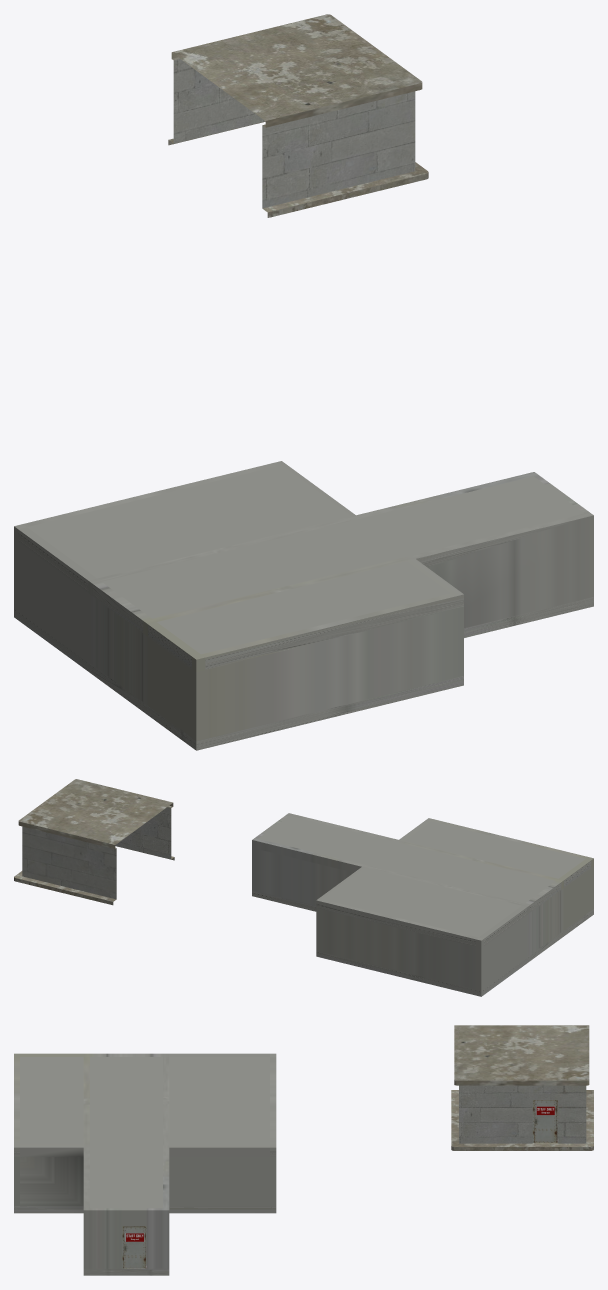
The model's file is BeachHut.fbx.
3 views of the same model, one above another, from view 1: azimuth 30°, elevation 25°; view 2: azimuth 150°, elevation 25°; view 3: azimuth 270°, elevation 25° (orthographic). The views are drawn at different scales.
Visible parts, largest first — view 1: Inside, Beach_hut; view 2: Inside, Beach_hut; view 3: Inside, Beach_hut, Door, ExitDoor.
Boxes of the visible parts, x1,y1,x2,y2 form: Inside: (14,461,593,750); Beach_hut: (168,14,428,217); Inside: (252,813,593,996); Beach_hut: (14,779,174,905); Inside: (14,1053,276,1275); Beach_hut: (451,1025,593,1150); Door: (534,1100,556,1142); ExitDoor: (123,1226,145,1268).
Size of the model in its own units: 2120 by 1182 by 2753.
